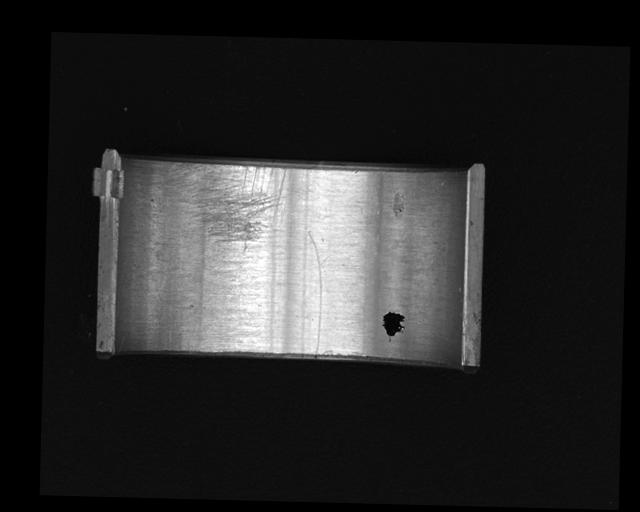blot: (381, 310, 405, 343)
bruise: (390, 191, 405, 217)
nick: (303, 229, 324, 356)
scratch: (170, 159, 288, 254)
